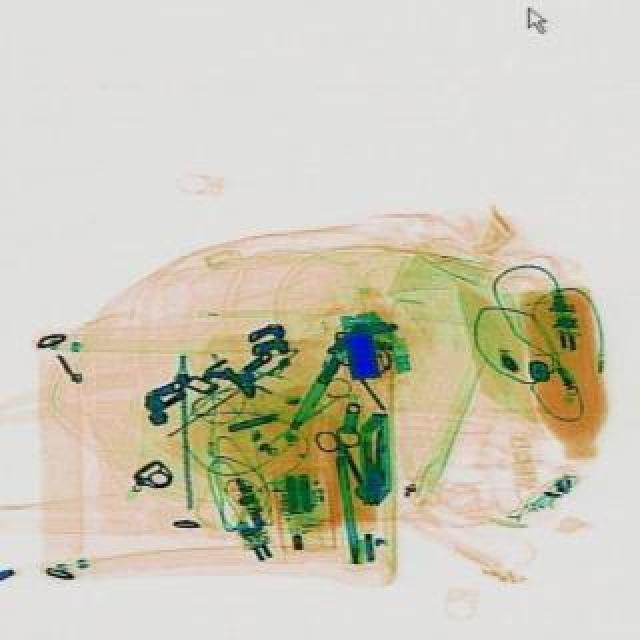pliers: (310, 418, 378, 494)
